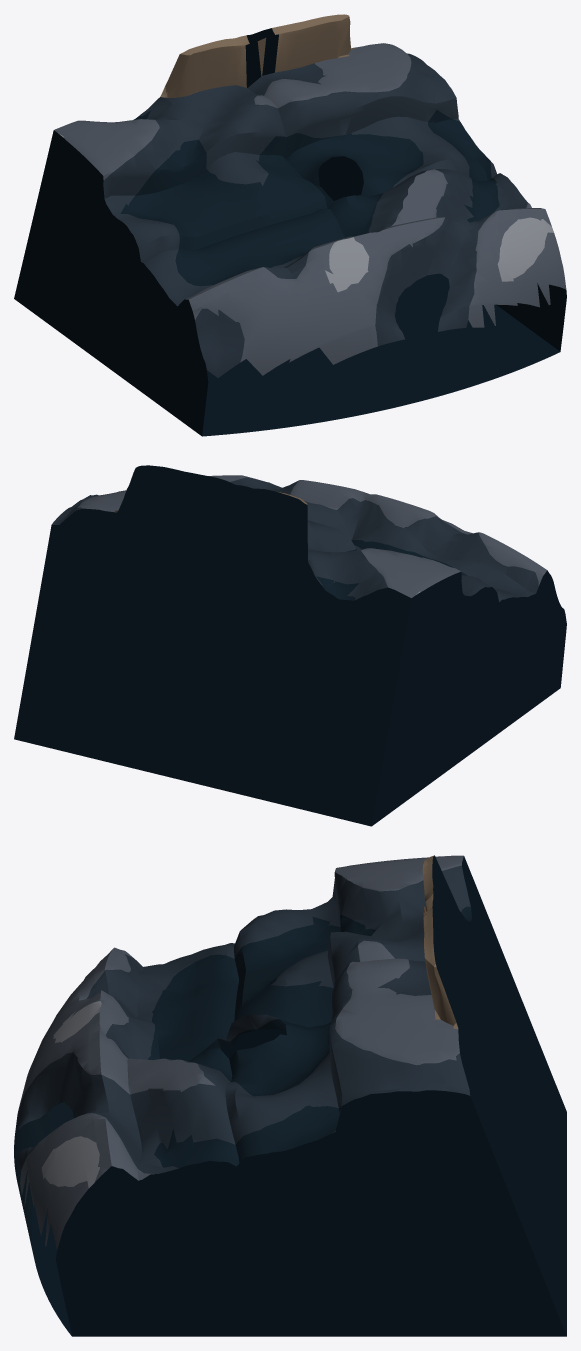
Rendered from armour_dome_wreck_bm.glb.
3 renders of one model, top to bottom at view 1: azimuth 30°, elevation 25°; view 2: azimuth 150°, elevation 25°; view 3: azimuth 270°, elevation 25°, orthographic. The views are drawn at different scales.
Parts seen in each view (by area): view 1: armour_dome_wreck_bm; view 2: armour_dome_wreck_bm; view 3: armour_dome_wreck_bm.
Boxes of the visible parts, box(x1,y1,x2,y2) form: armour_dome_wreck_bm: box(14, 14, 566, 436); armour_dome_wreck_bm: box(14, 465, 566, 826); armour_dome_wreck_bm: box(14, 855, 566, 1336).
Bounding box in the file's own units: 24 × 16.71 × 24.96.
